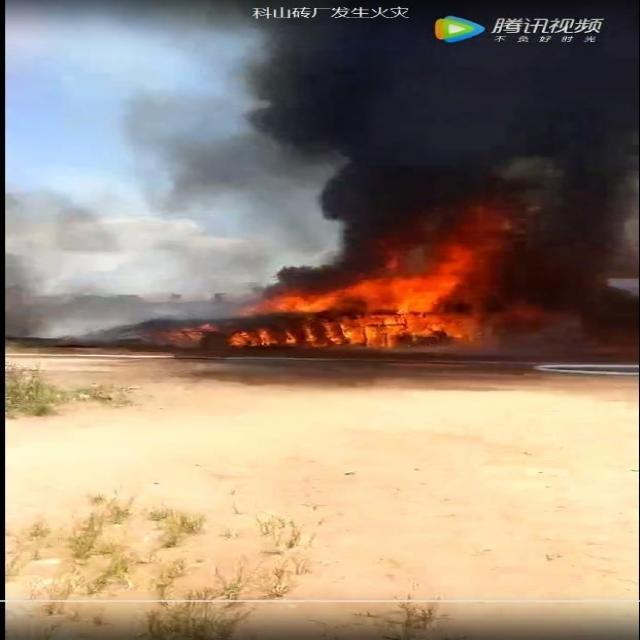Fire: (228, 241, 479, 349)
Smoke: (6, 1, 640, 204), (8, 210, 237, 328)
